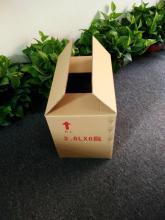cardboard: (45, 38, 115, 158)
